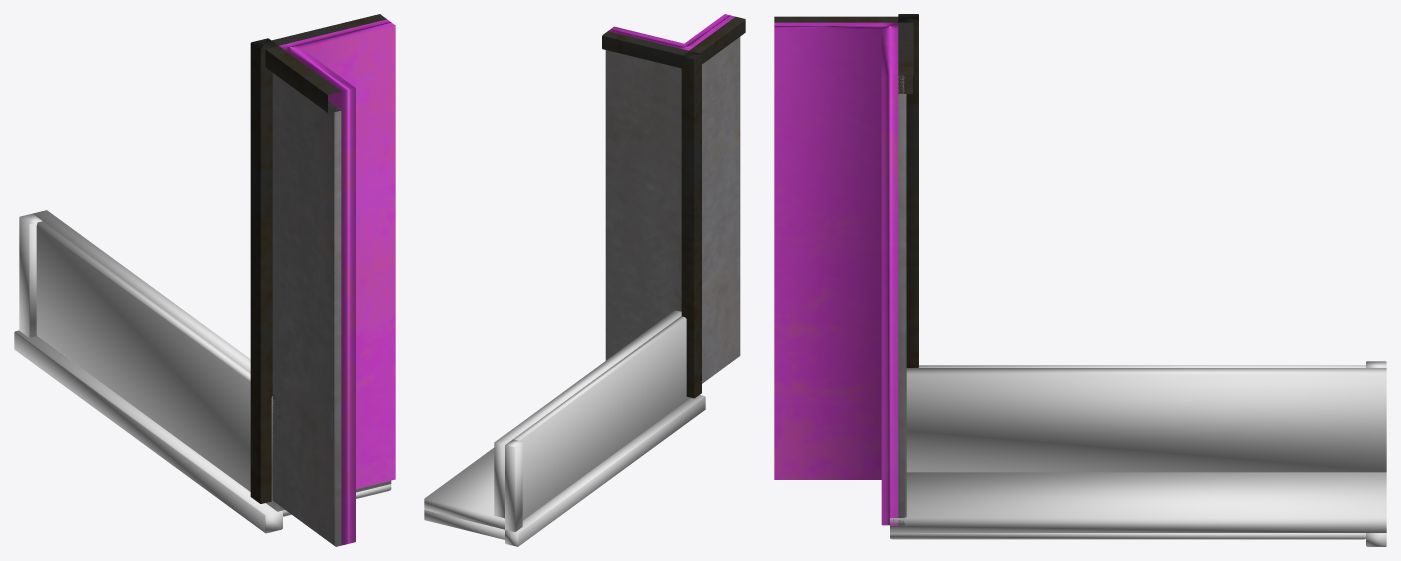
Rendered from SM_Wall_Corner_Medium.fbx.
3 views of the same model, side by side, from view 1: azimuth 30°, elevation 25°; view 2: azimuth 150°, elevation 25°; view 3: azimuth 270°, elevation 25° (orthographic). The views are drawn at different scales.
Visible parts, largest first — view 1: SM_Wall_Corner_Medium, SM_Wall_Corner_Medium_ConvexHulls; view 2: SM_Wall_Corner_Medium, SM_Wall_Corner_Medium_ConvexHulls; view 3: SM_Wall_Corner_Medium_ConvexHulls, SM_Wall_Corner_Medium.
Boxes of the visible parts, bbox=[...] form: SM_Wall_Corner_Medium: bbox=[250, 14, 395, 546]; SM_Wall_Corner_Medium_ConvexHulls: bbox=[14, 210, 391, 533]; SM_Wall_Corner_Medium: bbox=[602, 14, 745, 398]; SM_Wall_Corner_Medium_ConvexHulls: bbox=[424, 310, 705, 546]; SM_Wall_Corner_Medium_ConvexHulls: bbox=[890, 361, 1386, 546]; SM_Wall_Corner_Medium: bbox=[774, 14, 918, 525].
Bounding box in the file's own units: 1.75 × 6.35 × 7.4.
